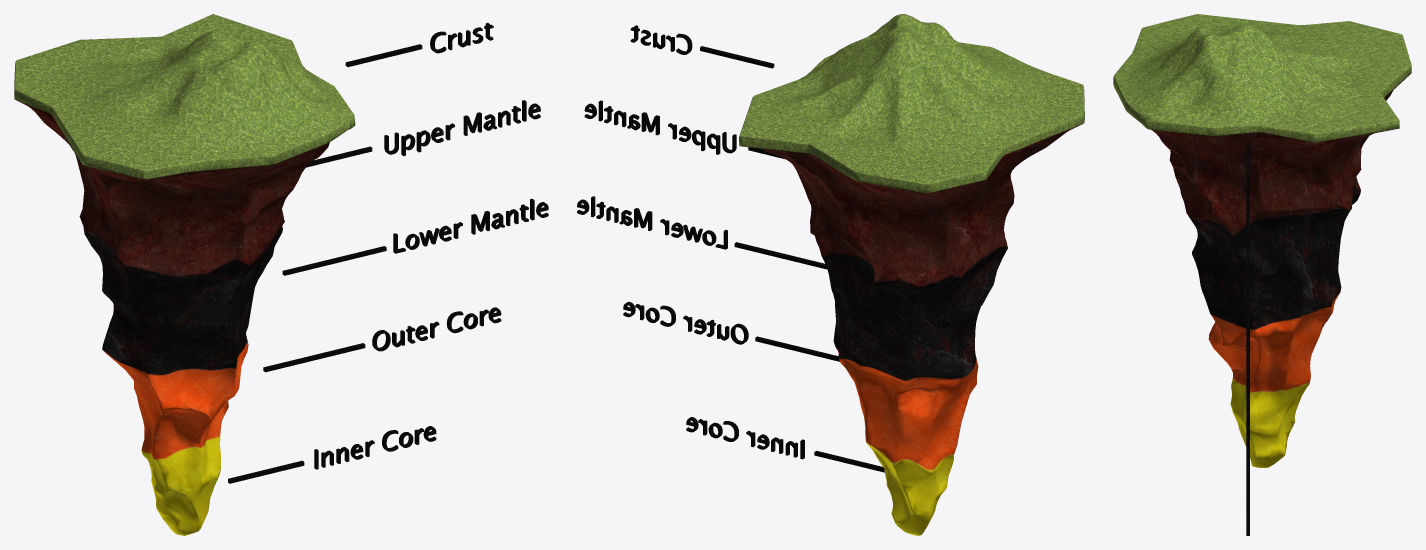
Rendered from layers of the earth.glb.
3 views of the same model, side by side, from view 1: azimuth 30°, elevation 25°; view 2: azimuth 150°, elevation 25°; view 3: azimuth 270°, elevation 25° (orthographic). The views are drawn at different scales.
Parts seen in each view (by area): view 1: pCube1, polySurface46; view 2: pCube1, polySurface46; view 3: pCube1, polySurface46.
Boxes of the visible parts, <box> form: pCube1: <box>14,14,355,535</box>; polySurface46: <box>228,23,548,483</box>; pCube1: <box>739,14,1084,535</box>; polySurface46: <box>577,25,884,472</box>; pCube1: <box>1113,14,1411,467</box>; polySurface46: <box>1246,141,1249,535</box>.
Bounding box in the file's own units: 0.231 × 0.2257 × 0.1351.
2 materials, 1 textured.
